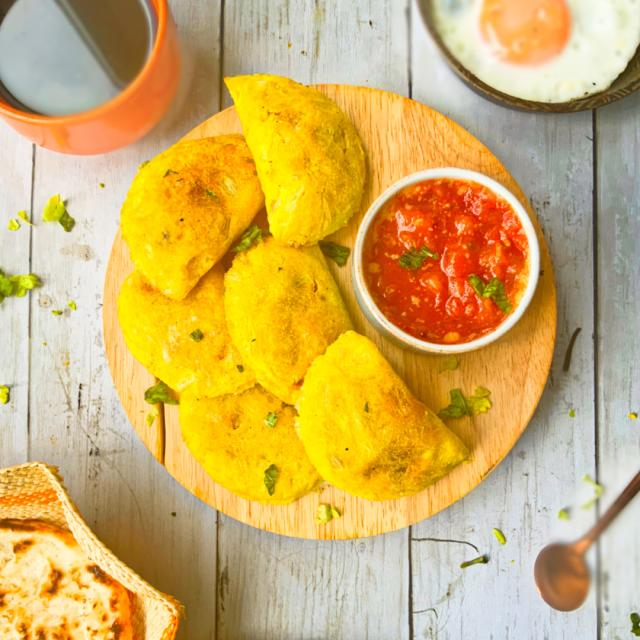huevos: (429, 0, 640, 107)
